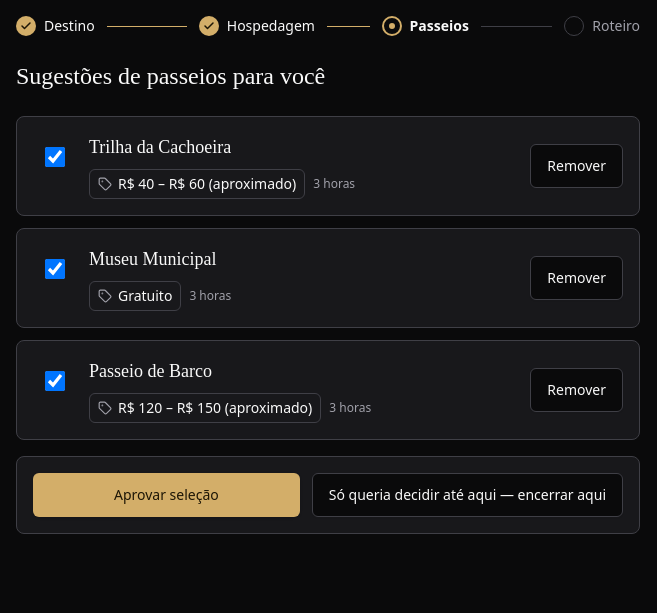
Scenario: PasseiosSugestoesScreen — estado Erro › erro ao aprovar a seleção mostra mensagem inline e mantém a lista
Expected: the text "Trilha da Cachoeira" is shown, [89, 137, 231, 157]
Step 1. Click the button "Aprovar seleção" → [166, 495], box [33, 473, 300, 517]
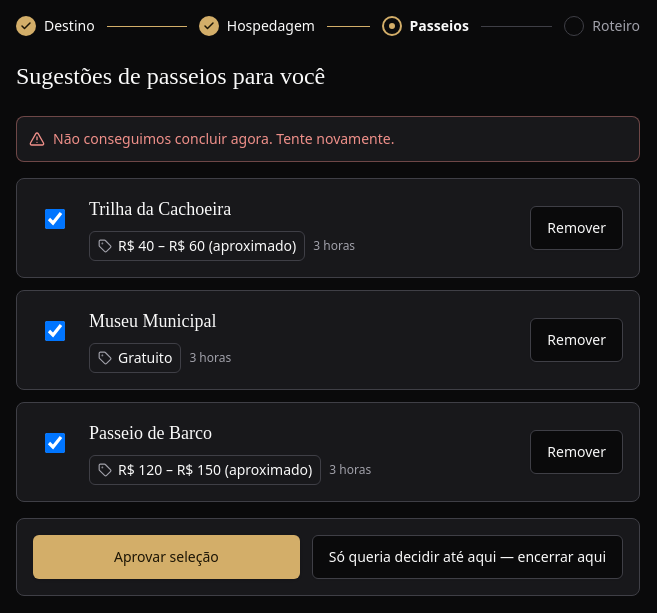
Expected: the text "Trilha da Cachoeira" is shown, [89, 199, 231, 219]
Expected: the text "Não conseguimos concluir agora. Tente novamente." is shown, [53, 129, 394, 149]
